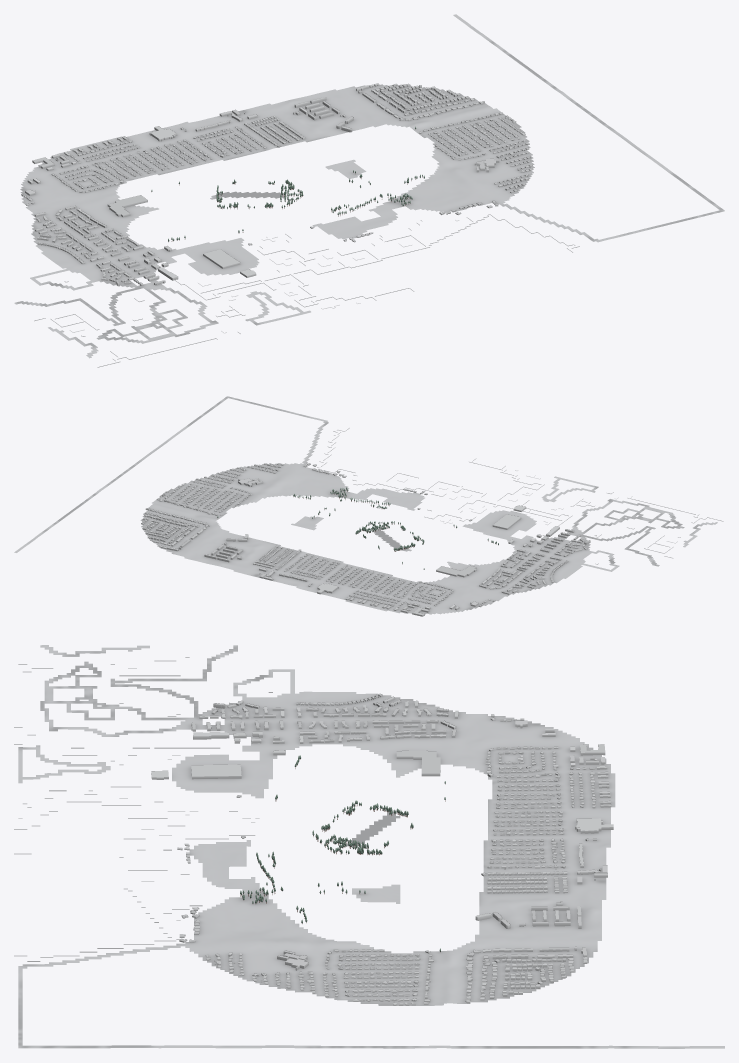
File: city.glb
3 renders of one model, top to bottom at view 1: azimuth 30°, elevation 25°; view 2: azimuth 150°, elevation 25°; view 3: azimuth 270°, elevation 25°, orthographic. The views are drawn at different scales.
Visible parts, largest first — view 1: terrain, building, model; view 2: terrain, building, model; view 3: terrain, building, model.
Part boxes in pixels (x1,y1,x2,y2): terrain: (14,14,724,367); building: (21,83,532,286); model: (151,126,424,241); terrain: (14,396,723,614); building: (141,463,590,616); model: (217,487,498,569); terrain: (14,645,724,1048); building: (151,693,613,1005); model: (240,755,445,952).
Bounding box in the file's own units: 3472 × 46.31 × 2592.
